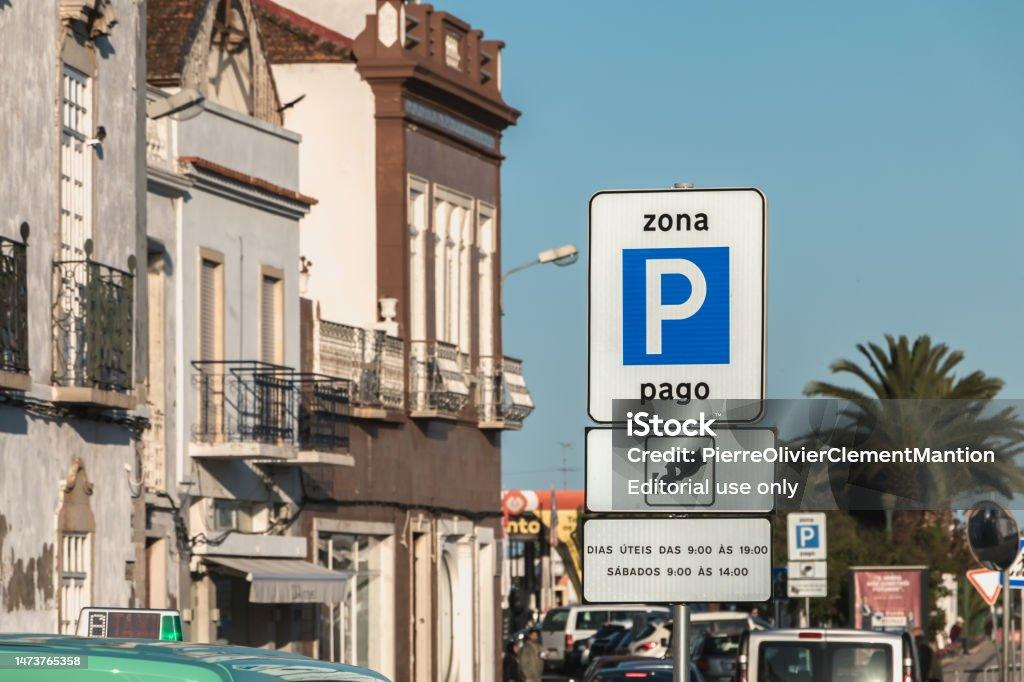zona de estacionamento autorizado: (584, 182, 766, 401)
